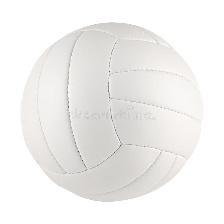Sports-Ball: (18, 23, 202, 199)
